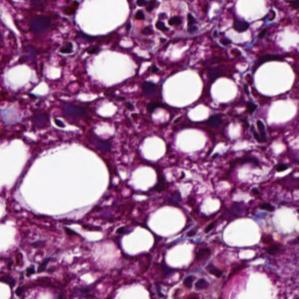inflammation: (228, 69, 274, 146), (127, 0, 209, 41), (214, 5, 281, 51), (3, 250, 55, 288), (166, 272, 216, 299)
